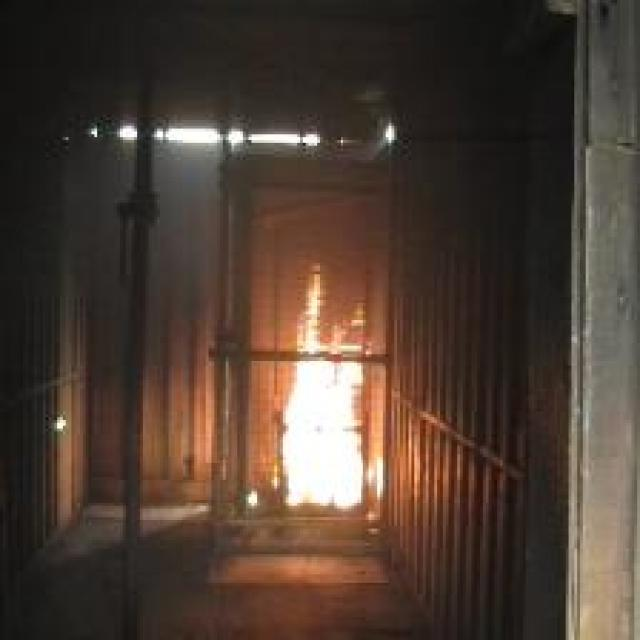Fire: (279, 264, 372, 507)
